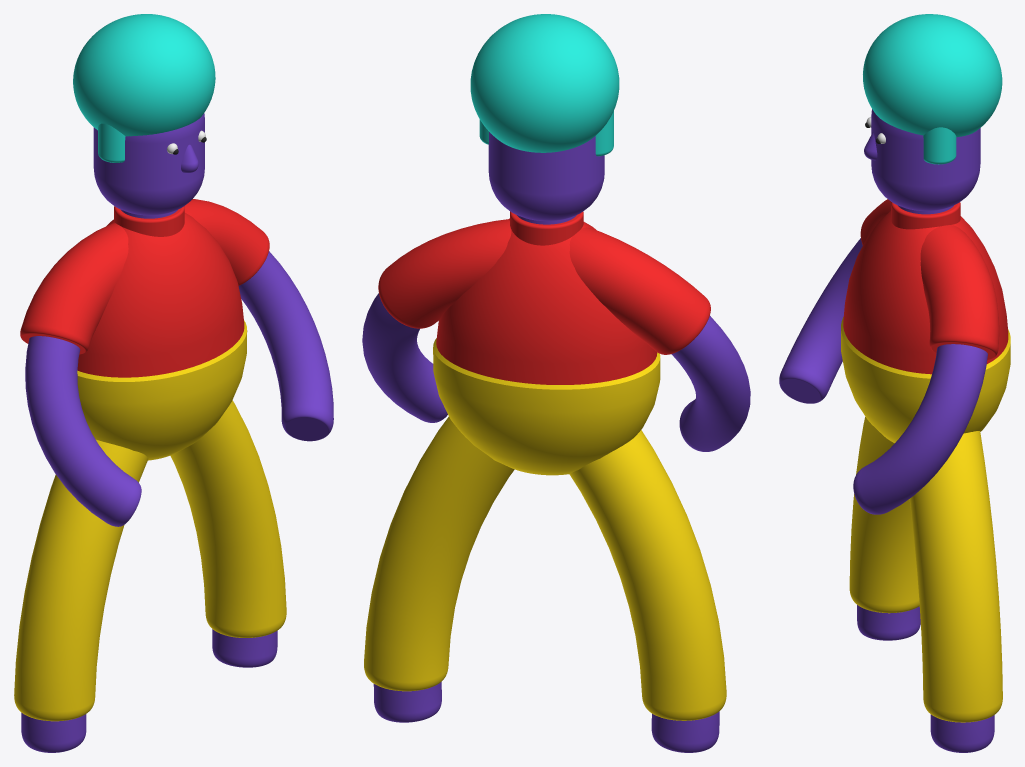
Rendered from ttc-explainer-poc-mini-man.glb.
3 renders of one model, left to right at view 1: azimuth 30°, elevation 25°; view 2: azimuth 150°, elevation 25°; view 3: azimuth 270°, elevation 25°, orthographic. The views are drawn at different scales.
Parts seen in each view (by area): view 1: Cylinder 2 (×8), Cylinder 4, Sphere, Cylinder 4 - baked, Cylinder, Cylinder 6, Cylinder 3; view 2: Cylinder 2 (×8), Cylinder 4, Cylinder 4 - baked, Sphere, Cylinder, Cylinder 6; view 3: Cylinder 2 (×8), Sphere, Cylinder 4, Cylinder 4 - baked, Cylinder, Cylinder 6, Cylinder 1.
Boxes of the visible parts, x1=… form: Cylinder 2 (×8): x1=14, y1=199, x2=333, y2=752; Cylinder 4: x1=77, y1=212, x2=244, y2=377; Sphere: x1=73, y1=14, x2=215, y2=136; Cylinder 4 - baked: x1=77, y1=320, x2=247, y2=460; Cylinder: x1=93, y1=113, x2=204, y2=215; Cylinder 6: x1=114, y1=206, x2=184, y2=236; Cylinder 3: x1=98, y1=123, x2=125, y2=162; Cylinder 2 (×8): x1=362, y1=219, x2=750, y2=752; Cylinder 4: x1=436, y1=218, x2=657, y2=384; Cylinder 4 - baked: x1=433, y1=338, x2=660, y2=475; Sphere: x1=470, y1=14, x2=619, y2=152; Cylinder: x1=488, y1=132, x2=604, y2=220; Cylinder 6: x1=510, y1=211, x2=583, y2=245; Cylinder 2 (×8): x1=779, y1=199, x2=1002, y2=752; Sphere: x1=863, y1=14, x2=1002, y2=137; Cylinder 4: x1=843, y1=211, x2=1008, y2=374; Cylinder 4 - baked: x1=841, y1=317, x2=1010, y2=443; Cylinder: x1=871, y1=109, x2=980, y2=210; Cylinder 6: x1=891, y1=202, x2=960, y2=229; Cylinder 1: x1=923, y1=127, x2=956, y2=164.
Bounding box in the file's own units: 0.1463 × 0.2958 × 0.0933.
